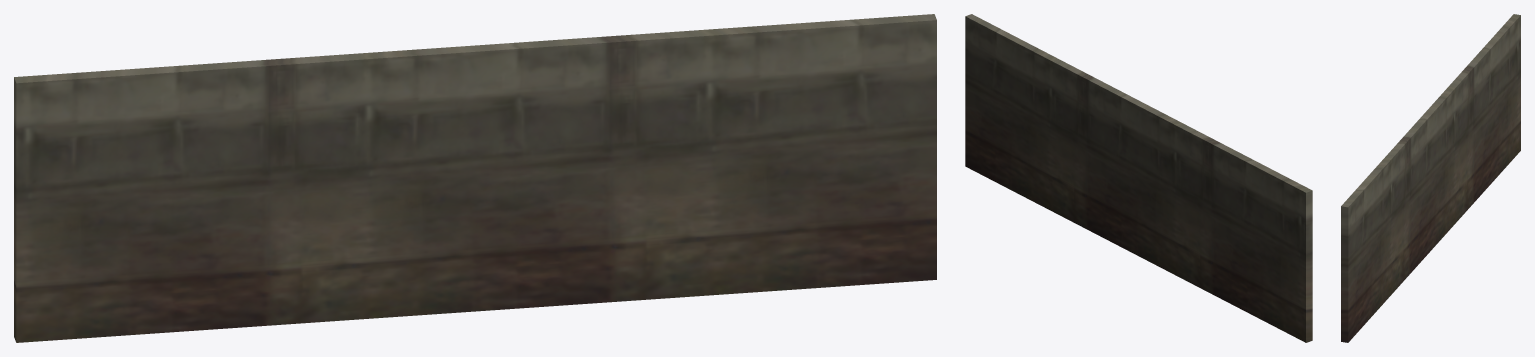
The picture shows the model from 3 angles, left to right: view 1: azimuth 30°, elevation 25°; view 2: azimuth 150°, elevation 25°; view 3: azimuth 270°, elevation 25°; orthographic projection. The views are drawn at different scales.
Parts seen in each view (by area): view 1: H1_F1_W8; view 2: H1_F1_W8; view 3: H1_F1_W8.
Boxes of the visible parts, x1,y1,x2,y2 form: H1_F1_W8: (14, 14, 936, 342); H1_F1_W8: (965, 14, 1312, 342); H1_F1_W8: (1341, 14, 1520, 342).
Bounding box in the file's own units: 29.71 × 9.7 × 11.68.
1 material, 1 textured.
